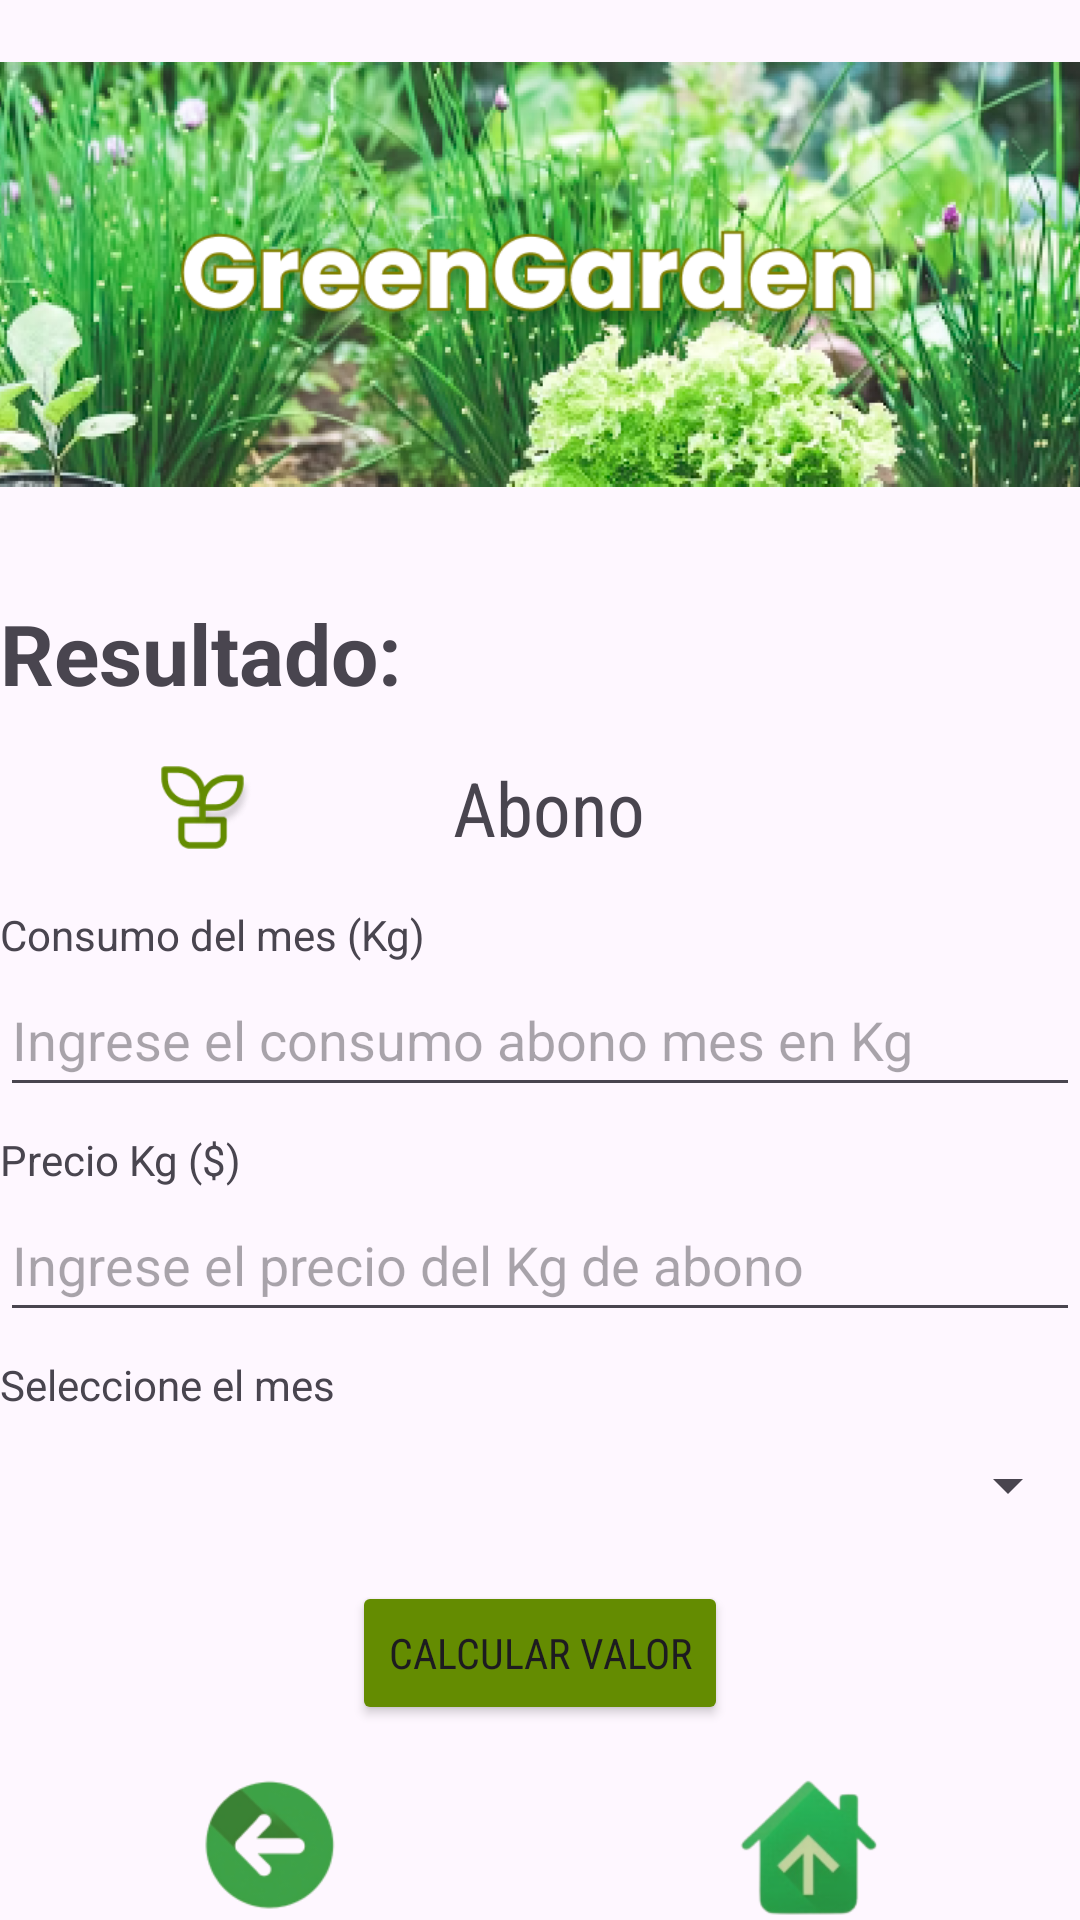

Point at icon controls on the screen. Image size 1080×1920, points as (x=x, y=y).
botonatras: (x=269, y=1845)
botoncasita: (x=809, y=1848)
iconoplanta: (x=202, y=807)
